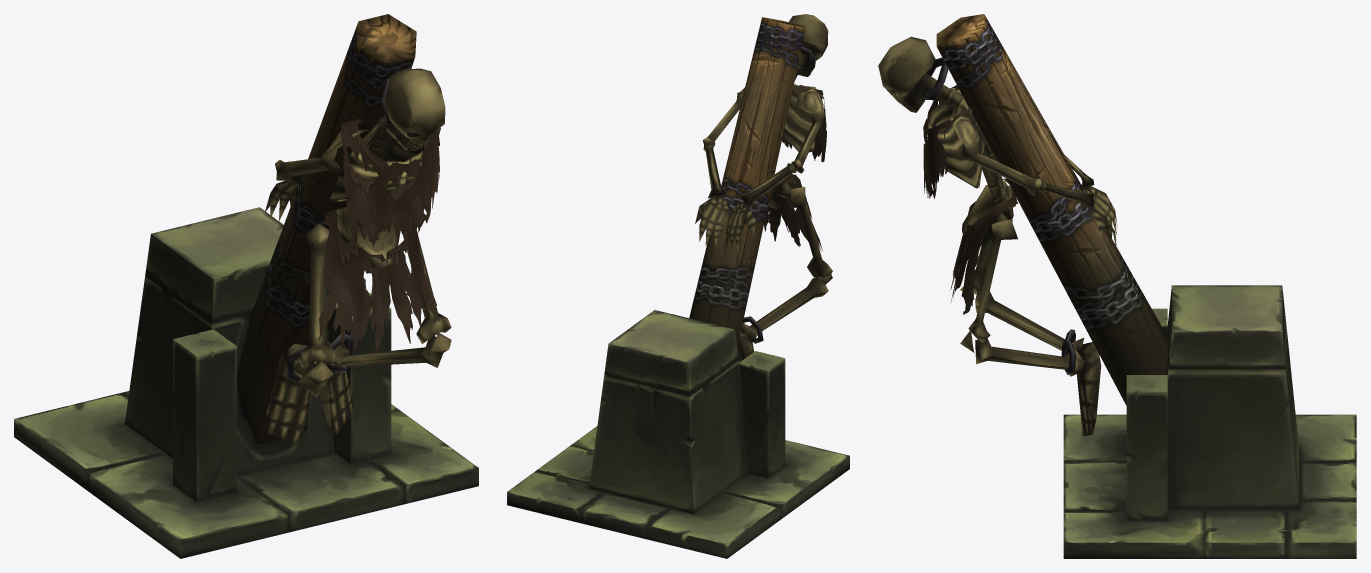
Rendered from mobile_skeleton_01.fbx.
The picture shows the model from 3 angles, left to right: view 1: azimuth 30°, elevation 25°; view 2: azimuth 150°, elevation 25°; view 3: azimuth 270°, elevation 25°; orthographic projection. The views are drawn at different scales.
Visible parts, largest first — view 1: mobile_skeleton_01, mobile_cloth_01; view 2: mobile_skeleton_01, mobile_cloth_01; view 3: mobile_skeleton_01, mobile_cloth_01.
Boxes of the visible parts, box(x1,y1,x2,y2) form: mobile_skeleton_01: box(14, 14, 478, 558); mobile_cloth_01: box(318, 117, 439, 350); mobile_skeleton_01: box(507, 14, 849, 558); mobile_cloth_01: box(764, 85, 826, 251); mobile_skeleton_01: box(878, 14, 1356, 558); mobile_cloth_01: box(923, 85, 1016, 314).
Size of the model in its own units: 150 by 258 by 236.
